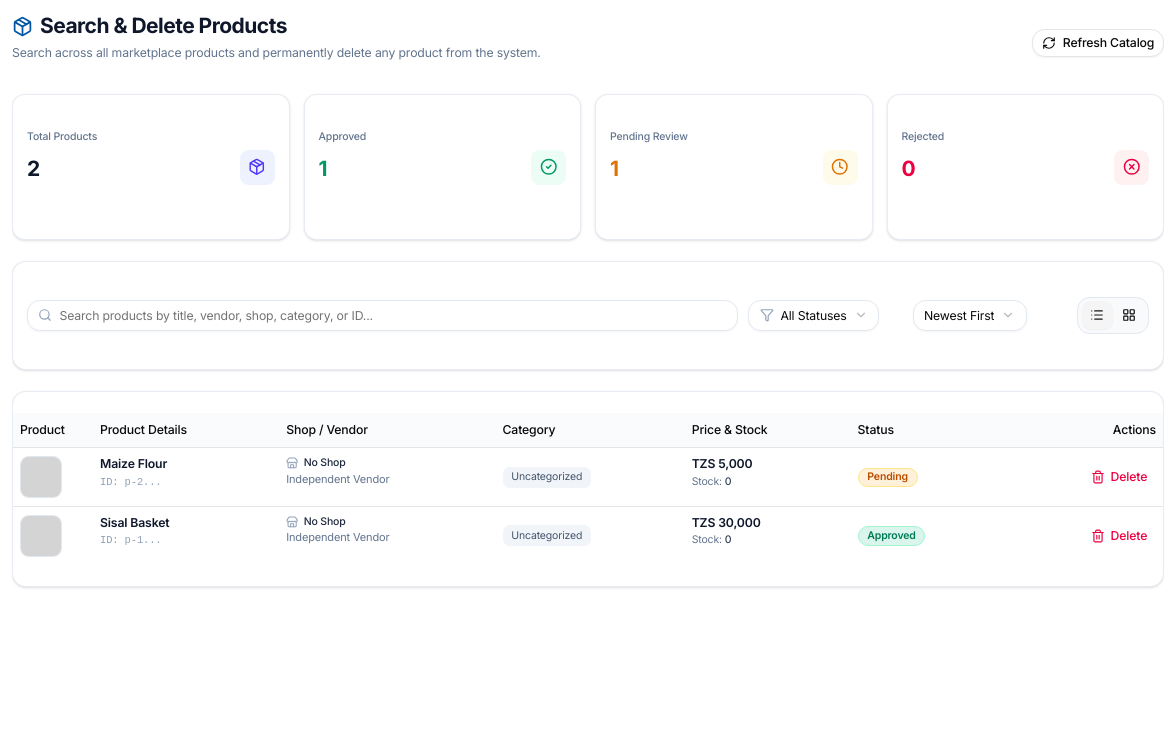
Test case: ProductManagementTab › refetches the catalogue from the API on demand
Click the button "Refresh Catalog" at x=1098, y=43, box [1032,29,1164,57]
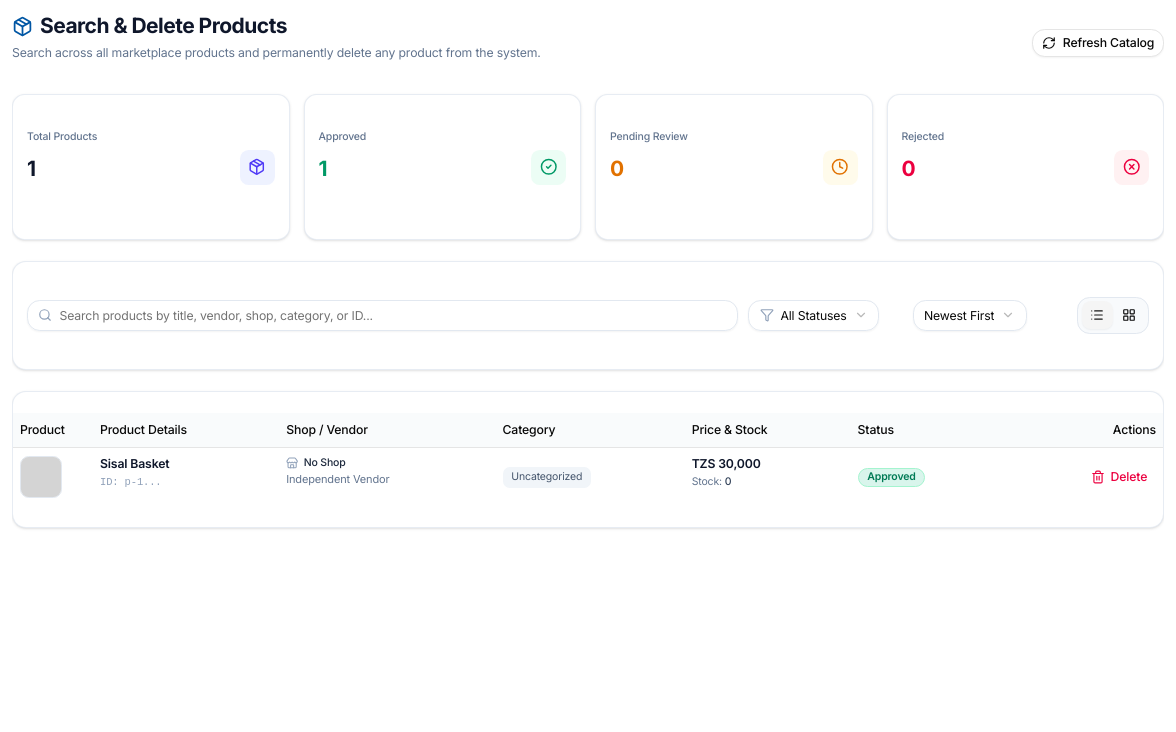
Now the text "Maize Flour" is gone
